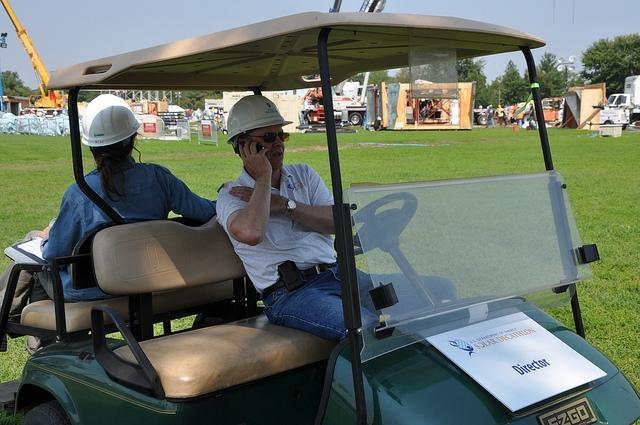car: (7, 10, 639, 423)
truck: (600, 76, 640, 130), (340, 106, 368, 124)
